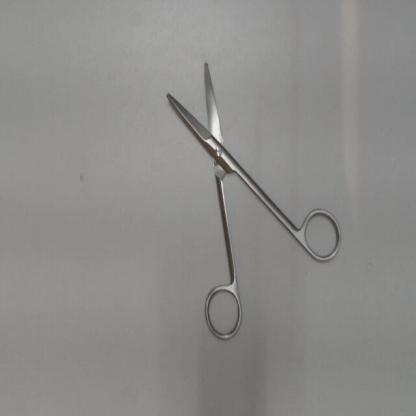Curved Mayo Scissors: (157, 52, 346, 346)
